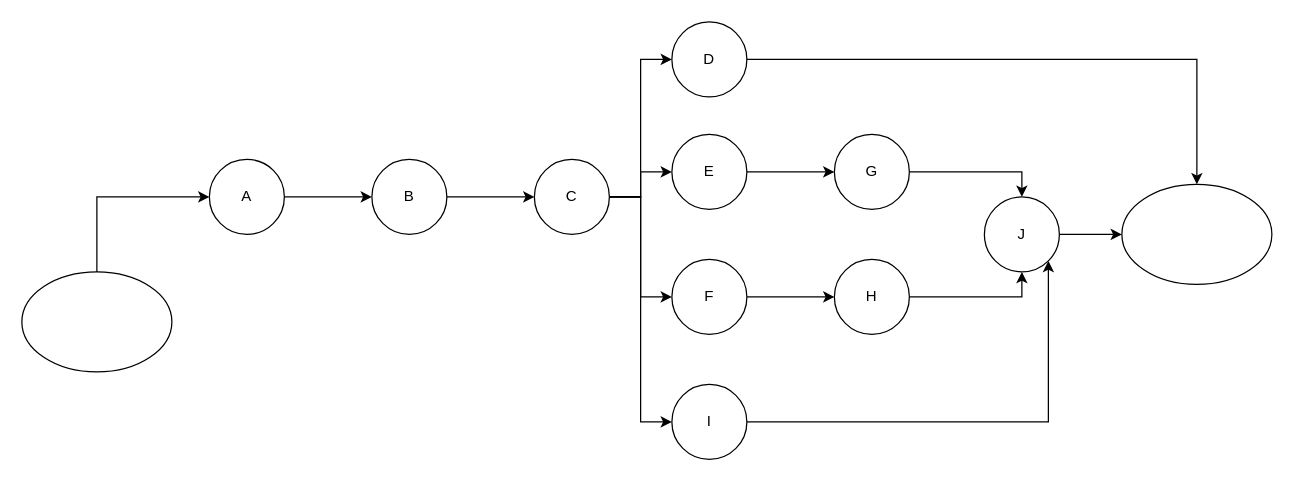
The diagram is 1294 pixels wide and 481 high, and some of its shapes have lost their labels. Here are the shapes that lost their labels. From the top down, the centre of each, then its label:
At point (1196, 233): "FIN".
At point (96, 321): "INCIO".
